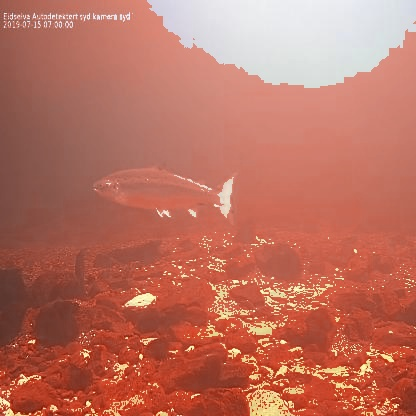salmon: (91, 158, 240, 228)
